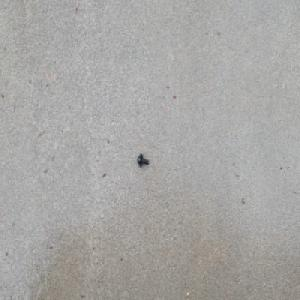BoltWasher: (136, 152, 149, 167)
